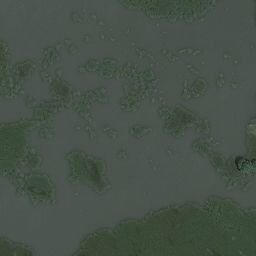tree: (235, 158, 255, 175)
